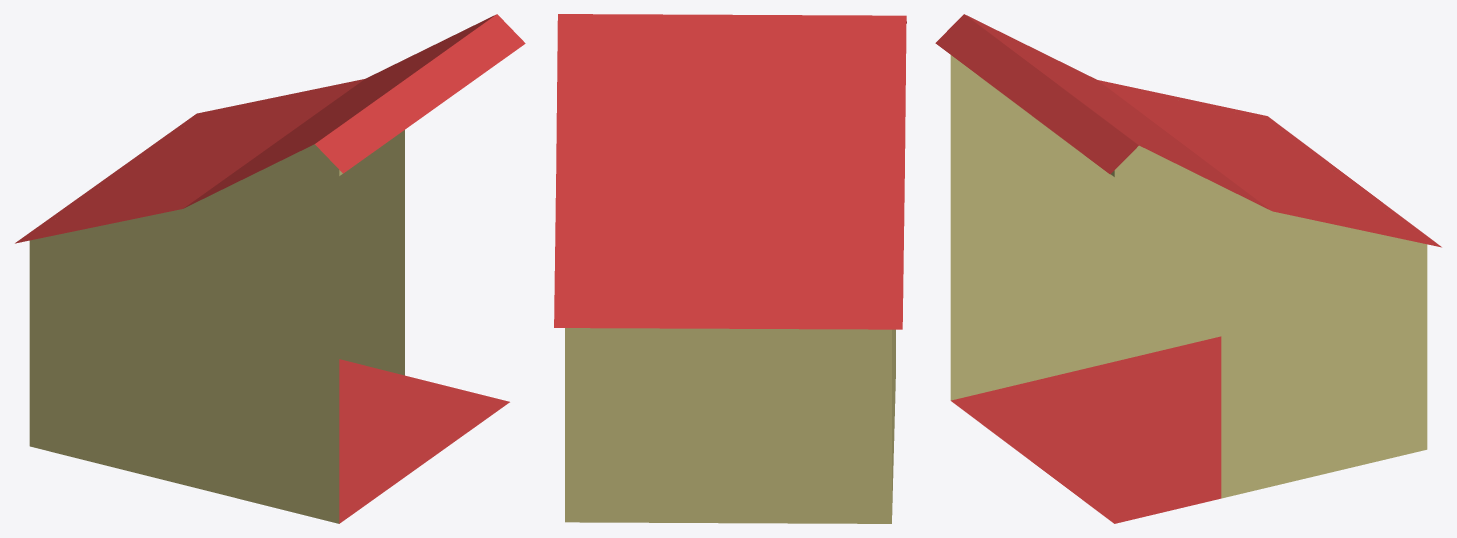
3 views of the same model, side by side, from view 1: azimuth 30°, elevation 25°; view 2: azimuth 150°, elevation 25°; view 3: azimuth 270°, elevation 25° (orthographic). The views are drawn at different scales.
Bounding box in the file's own units: 22.3 × 22.71 × 18.67.
